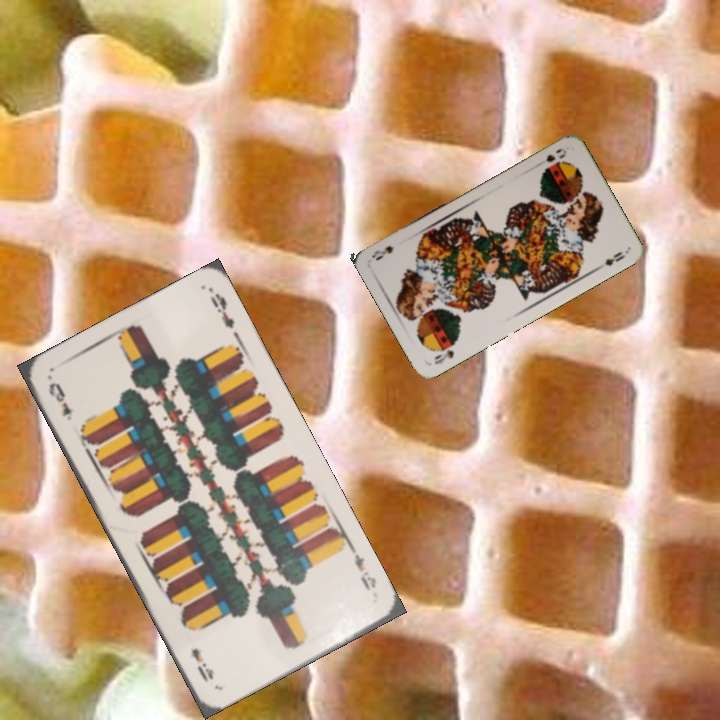E9: (346, 543, 379, 594), (44, 378, 76, 423)
SO: (430, 338, 458, 367), (542, 144, 569, 165)
